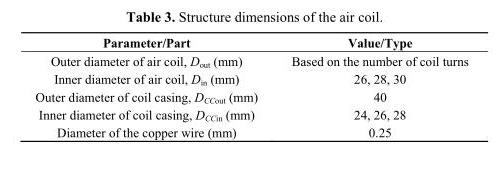table: (34, 34, 467, 139)
table column: (34, 34, 273, 139), (273, 34, 467, 139)
table column header: (34, 34, 467, 51)
table row: (34, 51, 467, 69), (34, 69, 467, 87), (34, 87, 467, 105), (34, 105, 467, 123), (34, 34, 467, 51), (34, 123, 467, 139)
